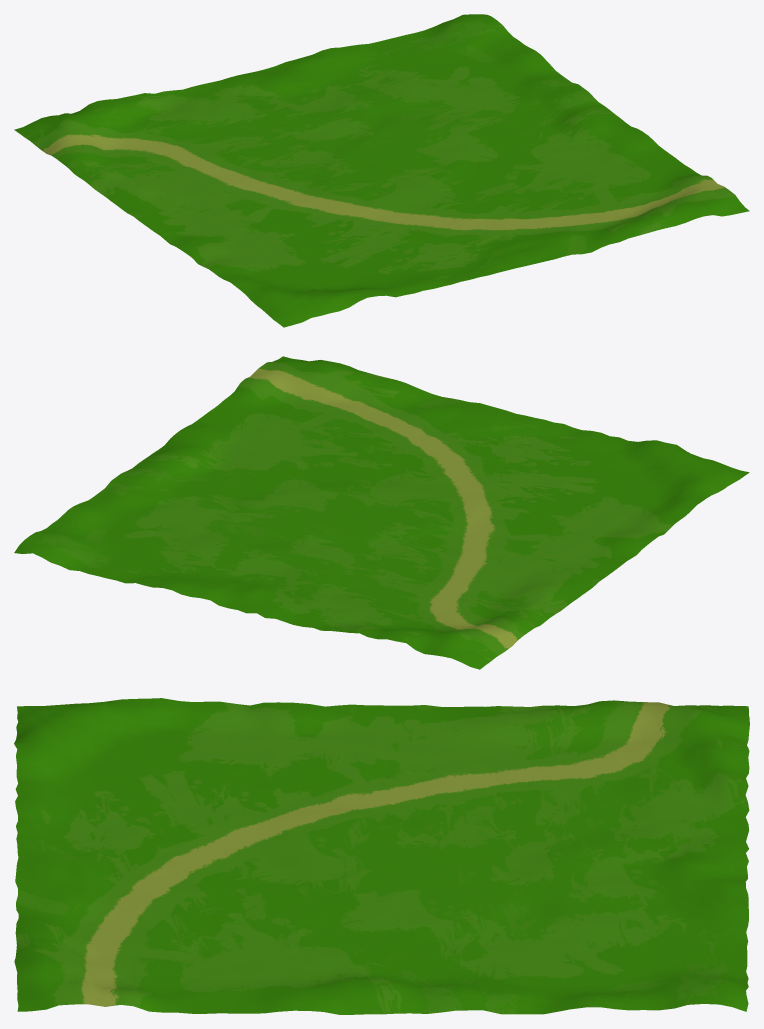
File: terrain_1.fbx
The picture shows the model from 3 angles, top to bottom: view 1: azimuth 30°, elevation 25°; view 2: azimuth 150°, elevation 25°; view 3: azimuth 270°, elevation 25°; orthographic projection. The views are drawn at different scales.
Visible parts, largest first — view 1: terrain_1; view 2: terrain_1; view 3: terrain_1.
Part boxes in pixels (<box>): terrain_1: <box>14,14,749,327</box>; terrain_1: <box>14,356,749,669</box>; terrain_1: <box>14,698,749,1014</box>.
Size of the model in its own units: 956 by 29.26 by 961.
Materials: 1 (1 with a texture image).
